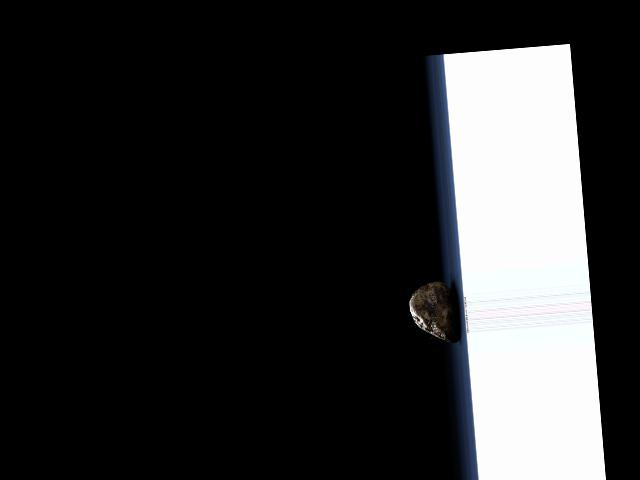beet: (408, 279, 459, 345)
